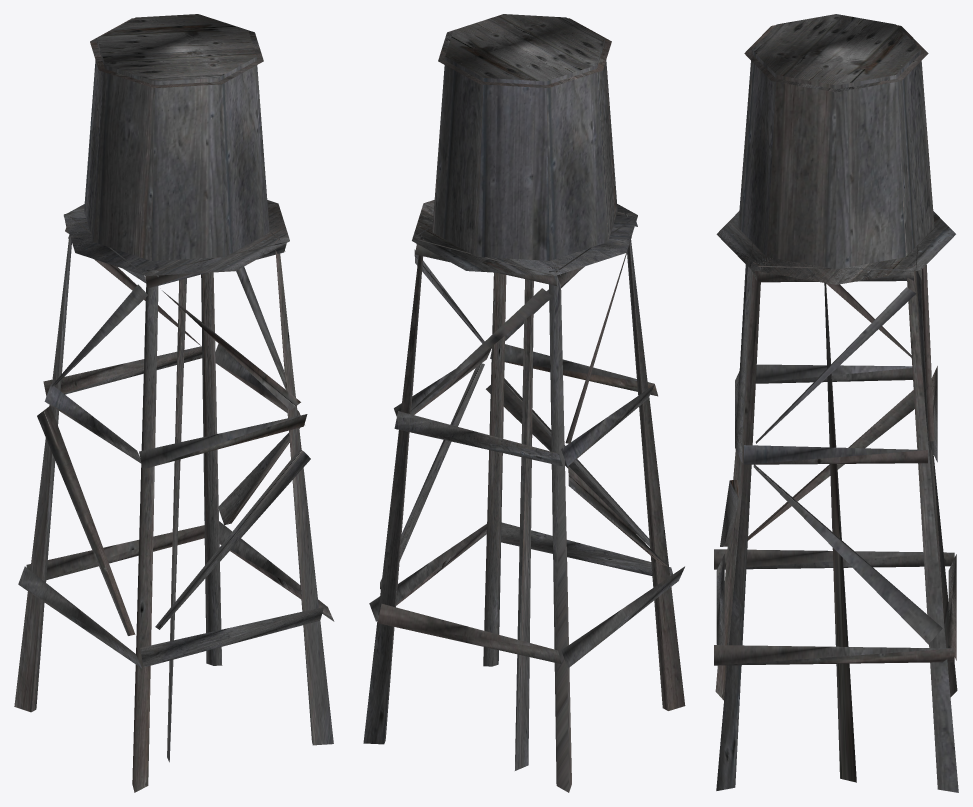
The model's file is Building01.fbx.
3 renders of one model, left to right at view 1: azimuth 30°, elevation 25°; view 2: azimuth 150°, elevation 25°; view 3: azimuth 270°, elevation 25°, orthographic. The views are drawn at different scales.
Visible parts, largest first — view 1: BUILDING:Cylinder; view 2: BUILDING:Cylinder; view 3: BUILDING:Cylinder.
Boxes of the visible parts, <box> form: BUILDING:Cylinder: <box>14,14,334,792</box>; BUILDING:Cylinder: <box>363,14,685,792</box>; BUILDING:Cylinder: <box>714,14,958,792</box>.
Size of the model in its own units: 71.95 by 240 by 72.74.
1 material, 1 textured.
